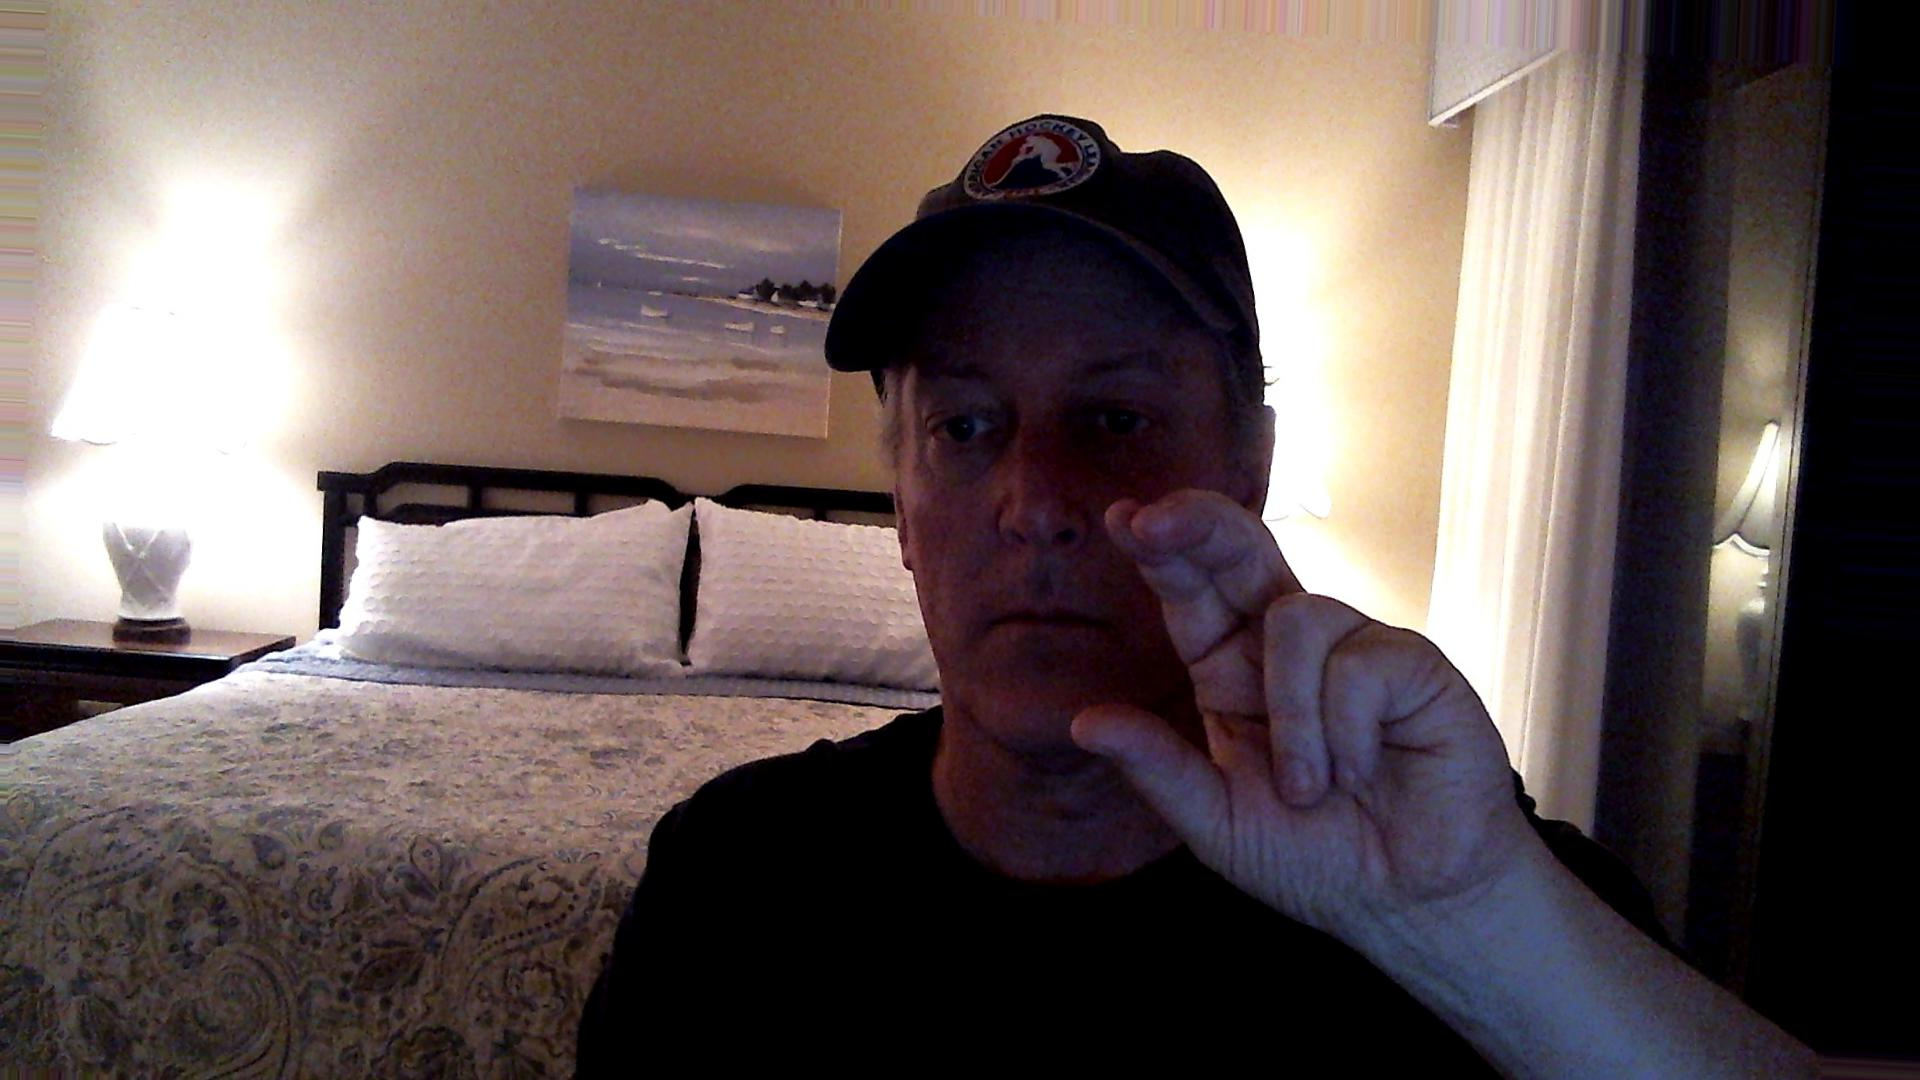No: (1054, 473, 1575, 971)
